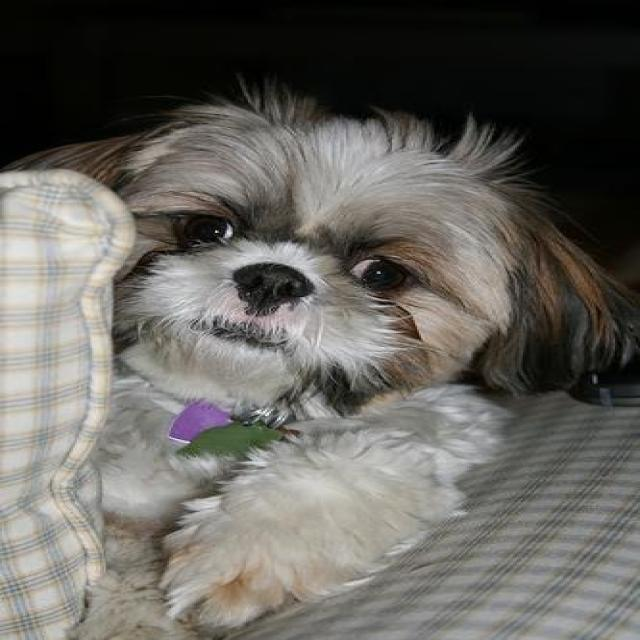shih_tzu: (78, 98, 624, 638)
